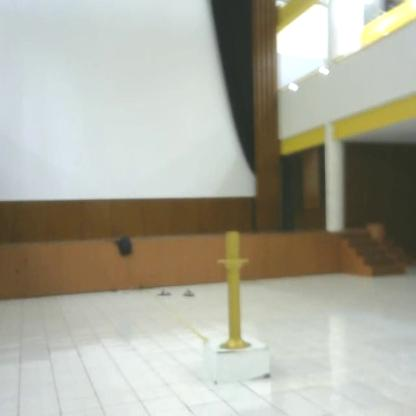pole: (213, 228, 258, 360)
